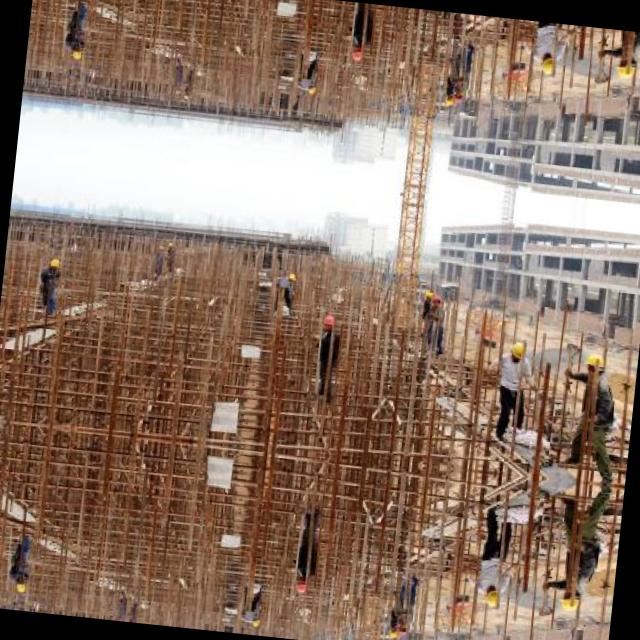helmet: (612, 56, 638, 80), (556, 588, 582, 612), (582, 349, 606, 374), (480, 584, 501, 609), (506, 336, 527, 360), (536, 52, 557, 76), (319, 312, 336, 328), (291, 578, 308, 594), (347, 46, 364, 61), (284, 269, 298, 281), (70, 46, 82, 60), (14, 578, 26, 592), (303, 82, 317, 94), (247, 615, 261, 627), (48, 254, 59, 268), (430, 293, 440, 303), (423, 288, 433, 298), (452, 91, 462, 101), (396, 624, 406, 634), (443, 94, 453, 104), (388, 628, 398, 638), (180, 90, 188, 100), (172, 85, 180, 94), (165, 238, 172, 248), (156, 242, 163, 250), (116, 618, 125, 620)
